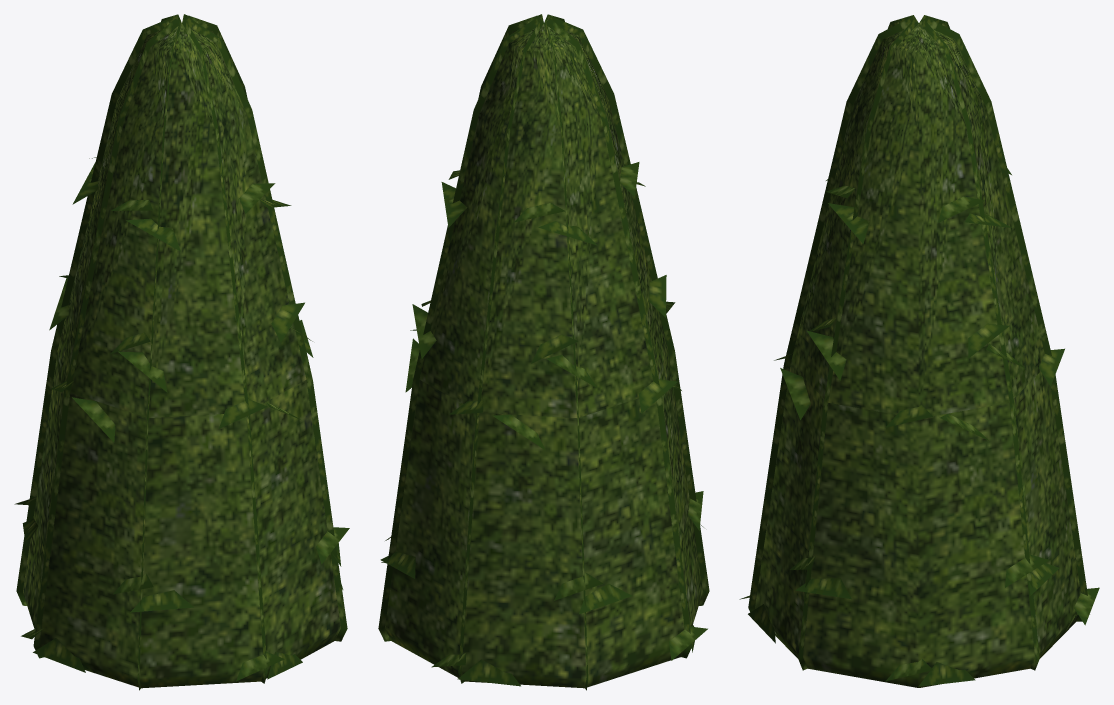
3 views of the same model, side by side, from view 1: azimuth 30°, elevation 25°; view 2: azimuth 150°, elevation 25°; view 3: azimuth 270°, elevation 25° (orthographic).
Parts seen in each view (by area): view 1: um_t1_pl014_model_t1_pl014_modelShape; view 2: um_t1_pl014_model_t1_pl014_modelShape; view 3: um_t1_pl014_model_t1_pl014_modelShape.
Part boxes in pixels (x1,y1,x2,y2): um_t1_pl014_model_t1_pl014_modelShape: [14, 14, 349, 690]; um_t1_pl014_model_t1_pl014_modelShape: [378, 14, 709, 690]; um_t1_pl014_model_t1_pl014_modelShape: [739, 15, 1099, 687].
Bounding box in the file's own units: 1.69 × 3.12 × 1.69.
Materials: 1 (1 with a texture image).
